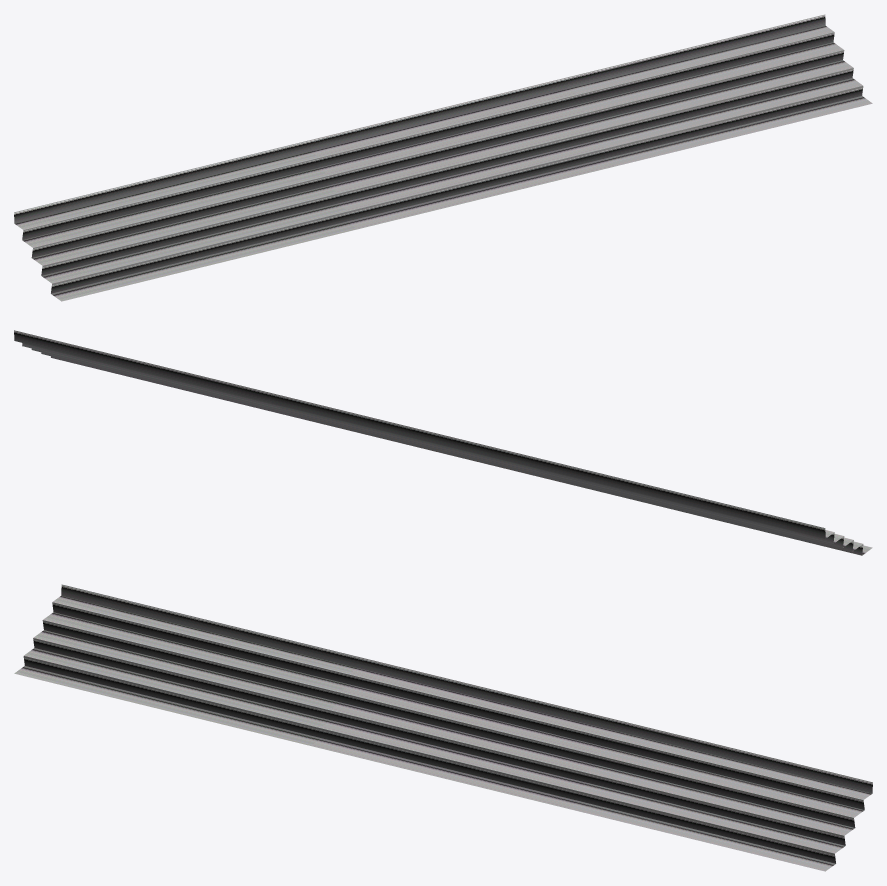
Rendered from TTreppeBreitGedreht5Stufen_209.glb.
The picture shows the model from 3 angles, top to bottom: view 1: azimuth 30°, elevation 25°; view 2: azimuth 150°, elevation 25°; view 3: azimuth 330°, elevation 25°; orthographic projection.
Visible parts, largest first — view 1: pPlaneShape16; view 2: pPlaneShape16; view 3: pPlaneShape16.
Boxes of the visible parts, box(x1,y1,x2,y2) form: pPlaneShape16: box(14, 14, 872, 301); pPlaneShape16: box(14, 330, 872, 555); pPlaneShape16: box(14, 584, 872, 871).
Bounding box in the file's own units: 2.53 × 0.1622 × 0.2571.
1 material, 1 textured.
